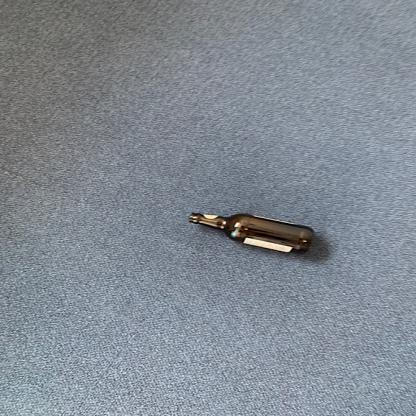trash: (188, 207, 314, 260)
